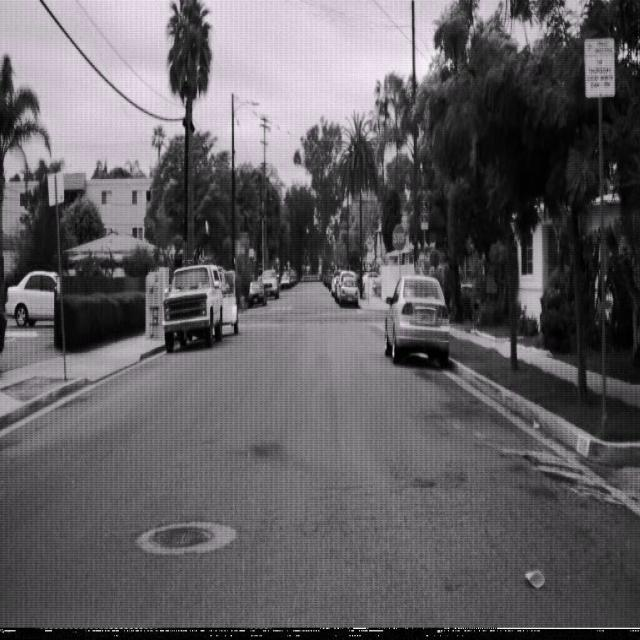stop_sign: (392, 223, 406, 253)
